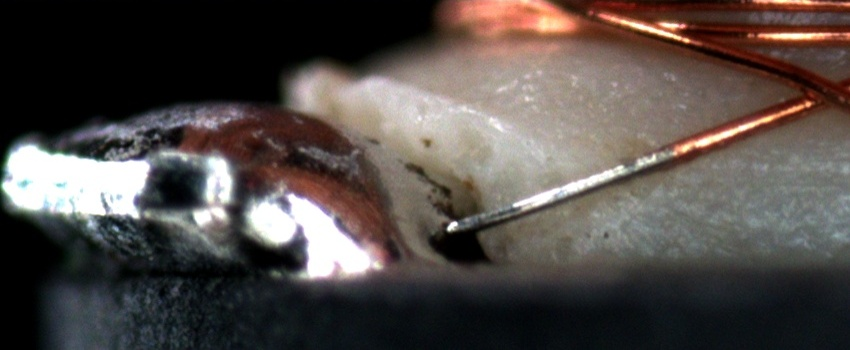CL: (776, 66, 847, 116)
DL: (685, 140, 850, 204)
TS: (445, 145, 677, 234)
